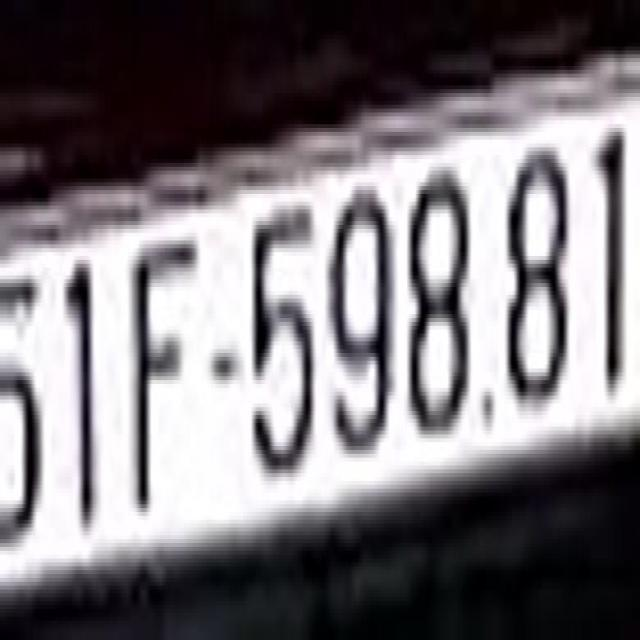1: (66, 232, 102, 520), (596, 100, 628, 396)
5: (253, 182, 316, 477), (0, 264, 43, 551)
8: (408, 144, 472, 442), (509, 128, 570, 419)
9: (332, 159, 392, 477)
F: (130, 244, 204, 532)
